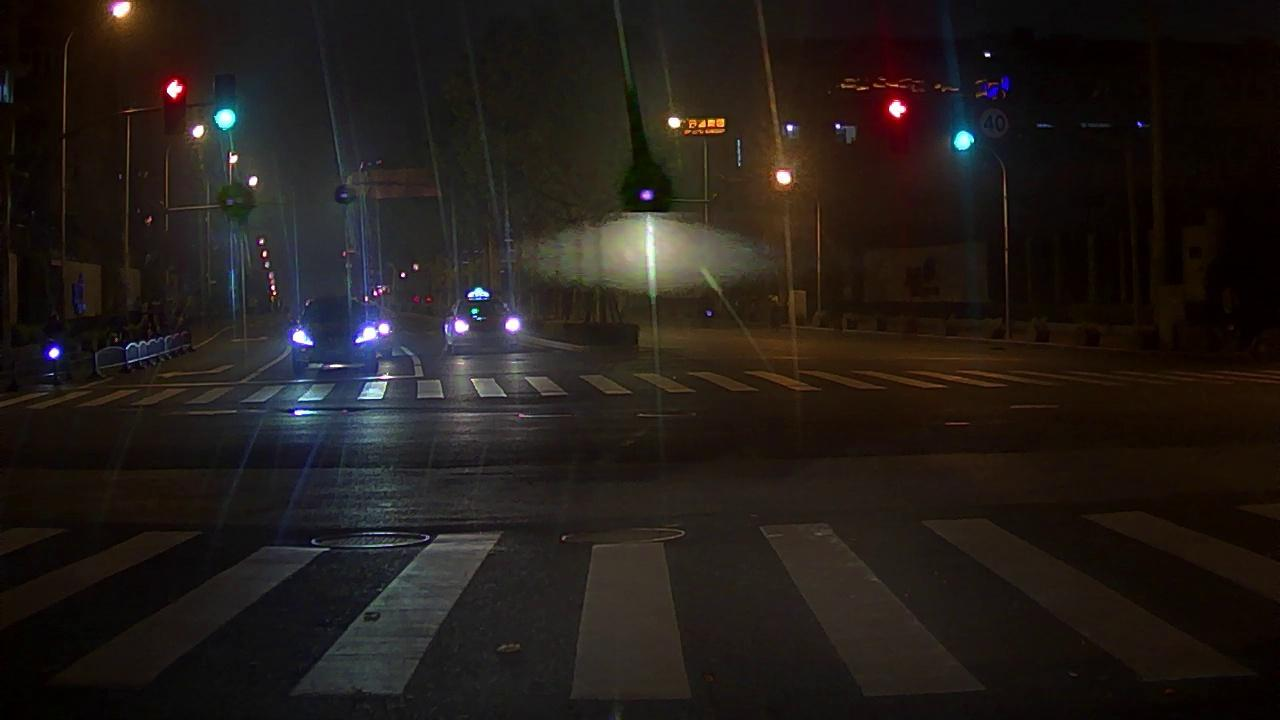traffic_light: (953, 95, 975, 155), (162, 78, 185, 133), (886, 97, 908, 154), (214, 76, 235, 130)
